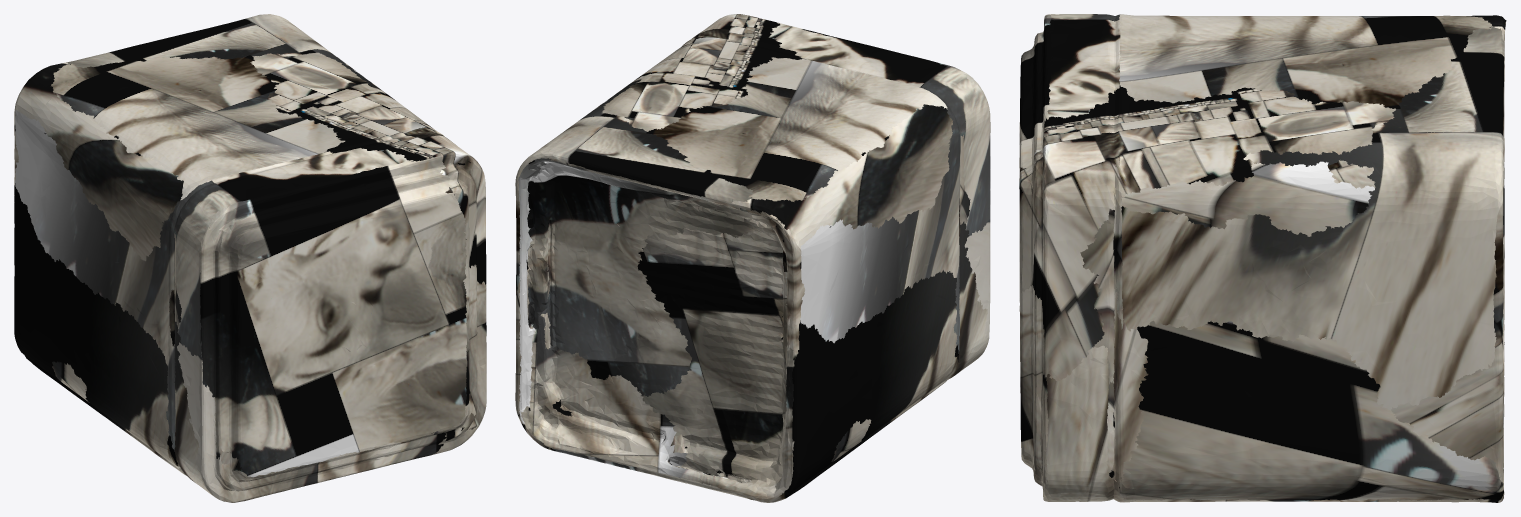
3 renders of one model, left to right at view 1: azimuth 30°, elevation 25°; view 2: azimuth 150°, elevation 25°; view 3: azimuth 270°, elevation 25°, orthographic. The views are drawn at different scales.
Parts seen in each view (by area): view 1: 20200904_006_chayehe2; view 2: 20200904_006_chayehe2; view 3: 20200904_006_chayehe2.
Part boxes in pixels (bbox=[...]): 20200904_006_chayehe2: bbox=[14, 14, 486, 502]; 20200904_006_chayehe2: bbox=[515, 14, 990, 502]; 20200904_006_chayehe2: bbox=[1019, 14, 1506, 502].
Size of the model in its own units: 70.92 by 70.96 by 86.41.
